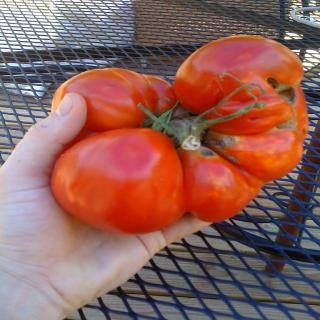tomato: (41, 32, 309, 242), (44, 125, 190, 237), (171, 35, 307, 133), (54, 66, 178, 136), (177, 143, 266, 223), (203, 125, 306, 182)
